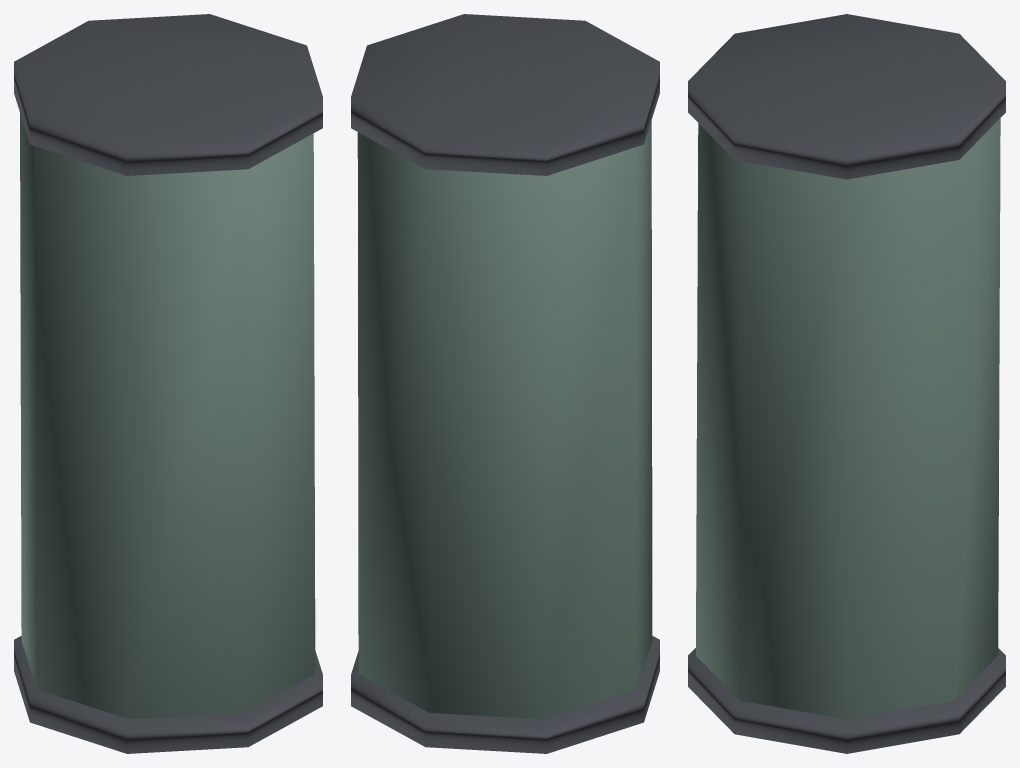
The model's file is SubGene_Green.fbx.
3 renders of one model, left to right at view 1: azimuth 30°, elevation 25°; view 2: azimuth 150°, elevation 25°; view 3: azimuth 270°, elevation 25°, orthographic.
Parts seen in each view (by area): view 1: pCylinder1, pCylinder2, pCylinder3; view 2: pCylinder1, pCylinder2, pCylinder3; view 3: pCylinder1, pCylinder2, pCylinder3.
Part boxes in pixels (x1,y1,x2,y2): pCylinder1: (20,113,315,719); pCylinder2: (14,14,322,175); pCylinder3: (14,636,322,753); pCylinder1: (357,120,652,719); pCylinder2: (351,14,659,175); pCylinder3: (351,636,659,753); pCylinder1: (696,118,1000,719); pCylinder2: (688,14,1005,179); pCylinder3: (688,648,1005,753).
Size of the model in its own units: 1.16 by 2.44 by 1.16.
